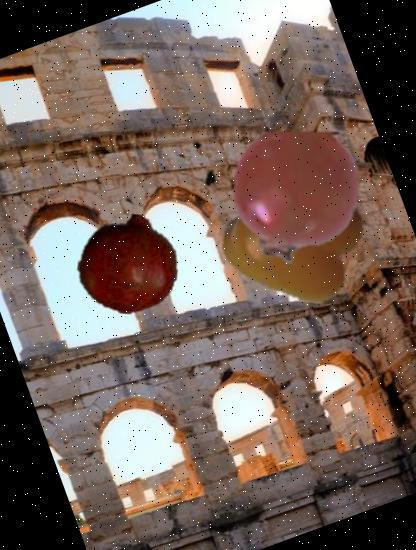Pepper: (200, 134, 386, 320)
Pomegranate: (64, 199, 192, 328)
Redcurrant: (211, 113, 379, 281)
